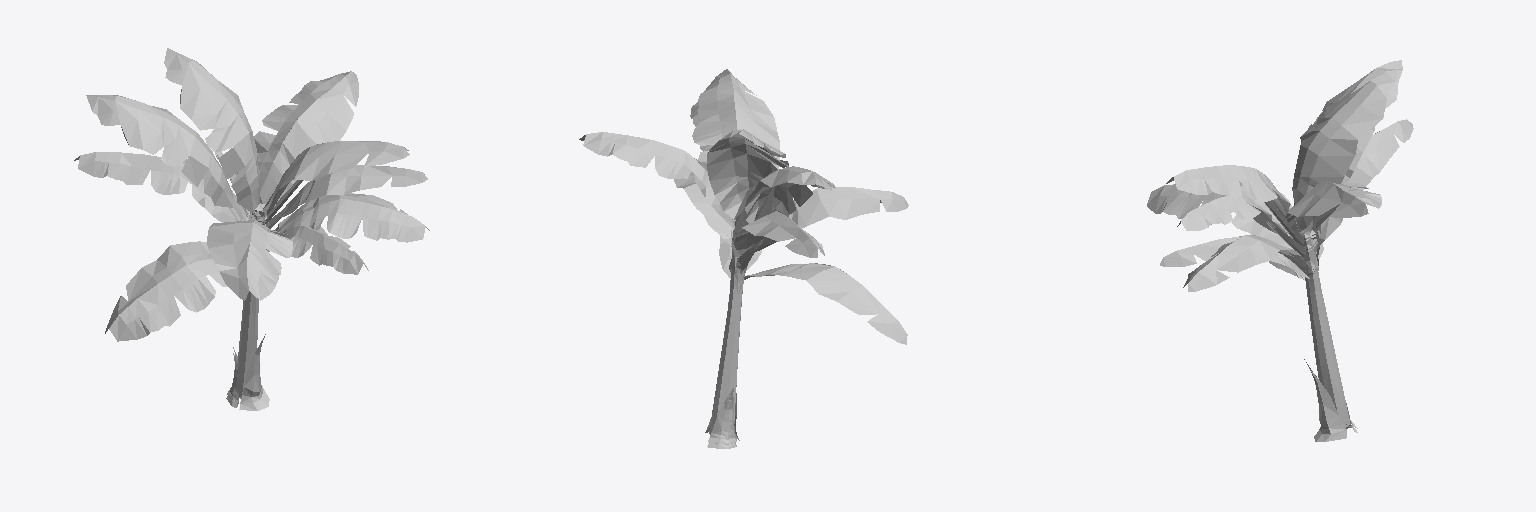
The model's file is banane Baum.obj.
3 views of the same model, side by side, from view 1: azimuth 30°, elevation 25°; view 2: azimuth 150°, elevation 25°; view 3: azimuth 270°, elevation 25° (orthographic).
Parts seen in each view (by area): view 1: loftedSurface8, loftedSurface13, loftedSurface10, loftedSurface5, loftedSurface1, loftedSurface2, loftedSurface12, loftedSurface11, loftedSurface6, loftedSurface9, Banana_tree_pCube1, pCube2; view 2: loftedSurface11, loftedSurface10, loftedSurface13, loftedSurface8, loftedSurface1, loftedSurface5, loftedSurface12, pCube1, Banana_tree_pCube1, loftedSurface2, pCube3; view 3: loftedSurface10, loftedSurface13, Banana_tree_pCube1, loftedSurface11, loftedSurface2, loftedSurface1, loftedSurface12, loftedSurface6, pCube1, loftedSurface5, loftedSurface9, pCube2.
Part boxes in pixels (x1,y1,x2,y2): loftedSurface8: (105, 241, 235, 341); loftedSurface13: (254, 71, 358, 206); loftedSurface10: (164, 48, 259, 213); loftedSurface5: (86, 95, 232, 207); loftedSurface1: (207, 220, 292, 300); loftedSurface2: (276, 193, 429, 242); loftedSurface12: (74, 152, 241, 222); loftedSurface11: (262, 141, 409, 215); loftedSurface6: (280, 165, 427, 216); loftedSurface9: (266, 226, 368, 274); Banana_tree_pCube1: (215, 152, 301, 394); pCube2: (239, 334, 269, 410); loftedSurface11: (692, 69, 779, 169); loftedSurface10: (706, 129, 788, 219); loftedSurface13: (579, 132, 734, 228); loftedSurface8: (744, 263, 907, 344); loftedSurface1: (777, 187, 908, 241); loftedSurface5: (745, 166, 835, 223); loftedSurface12: (734, 211, 824, 257); pCube1: (709, 187, 774, 434); Banana_tree_pCube1: (710, 185, 774, 431); loftedSurface2: (674, 158, 731, 247); pCube3: (708, 388, 736, 443); loftedSurface10: (1292, 69, 1397, 205); loftedSurface13: (1286, 181, 1381, 234); Banana_tree_pCube1: (1267, 199, 1349, 424); loftedSurface11: (1166, 165, 1299, 231); loftedSurface2: (1183, 235, 1300, 291); loftedSurface1: (1147, 181, 1293, 249); loftedSurface12: (1317, 119, 1413, 248); loftedSurface6: (1177, 195, 1287, 234); pCube1: (1264, 199, 1349, 428); loftedSurface5: (1313, 60, 1402, 183); loftedSurface9: (1160, 236, 1309, 278); pCube2: (1304, 359, 1346, 441).
Size of the model in its own units: 9 by 10.22 by 7.17.